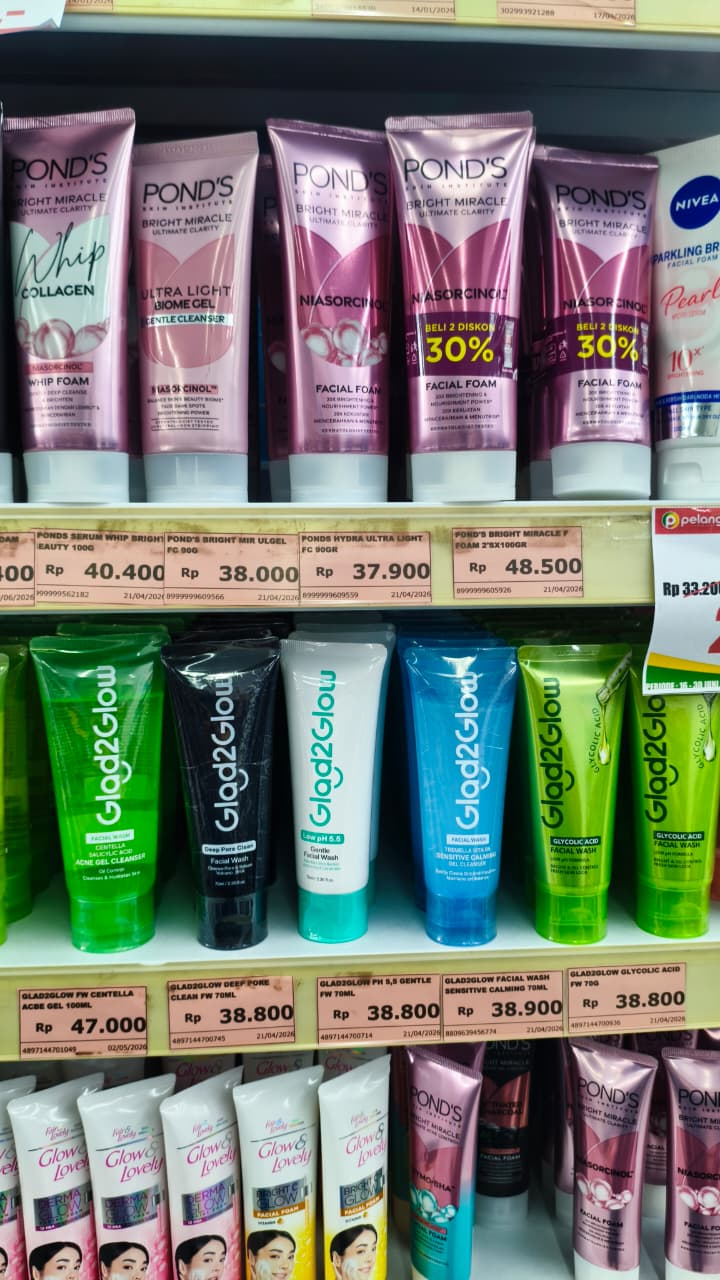Glad2Glow: (137, 667, 307, 837), (463, 669, 633, 839)
POND'S: (381, 102, 533, 254)
